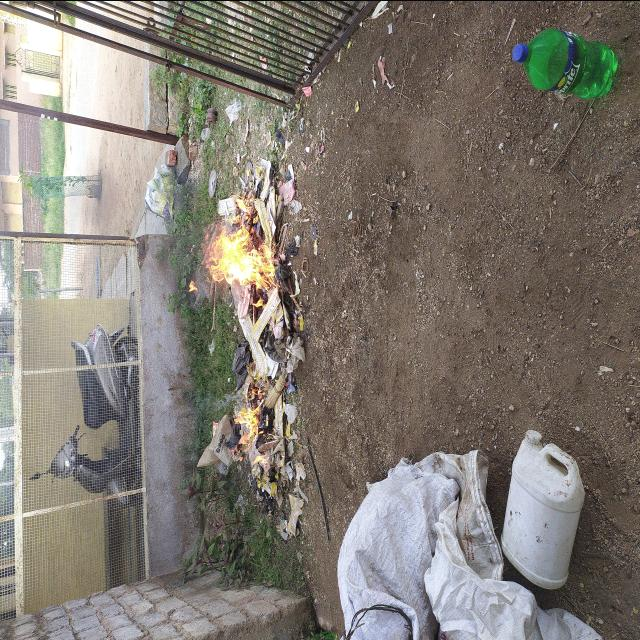firerotation: (201, 193, 275, 289), (230, 384, 270, 456)
